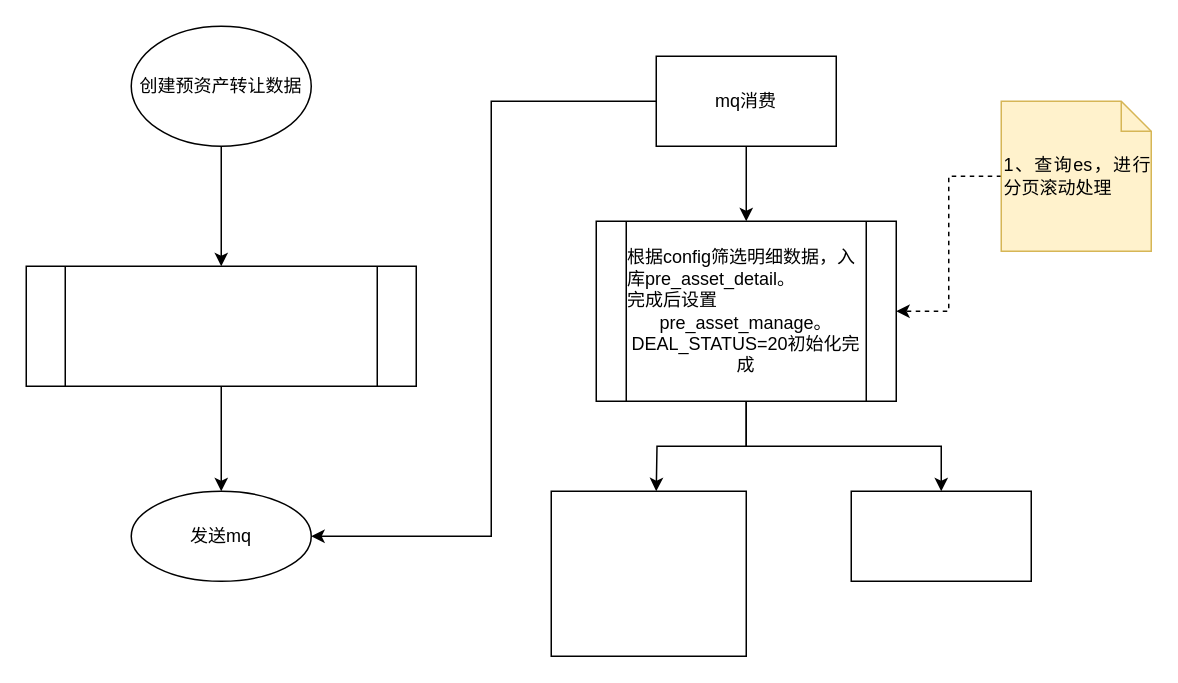
This 1178x683 diagram has some shape labels left out. The shapes that lost their labels are listed below. From the top down, each one's box as (x1, y1, x2, y2) in pixels, then its label:
(25, 265, 416, 386): insert pre_asset_manage和config，设置DEAL_STATUS=10初始化中
(850, 490, 1031, 581): 导出一个文件【 资产转让结果数据 】，发送mq，异步下载
(550, 490, 746, 656): 人工触发按钮：执行债转。状态变更为50=数据转移完成
